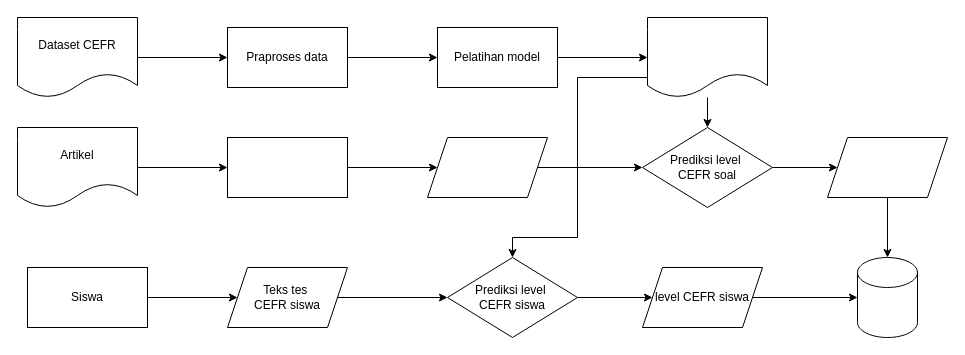
Image size: 965x355. Some labels were removed from this diagram. Each missing label, with the centre of its shape:
"Database" belongs at (x=887, y=297).
"Model klasifikasi CEFR" belongs at (x=707, y=57).
"Question Generation" belongs at (x=287, y=167).
"Soal" belongs at (x=487, y=167).
"Soal berlabel level CEFR" belongs at (x=887, y=167).
